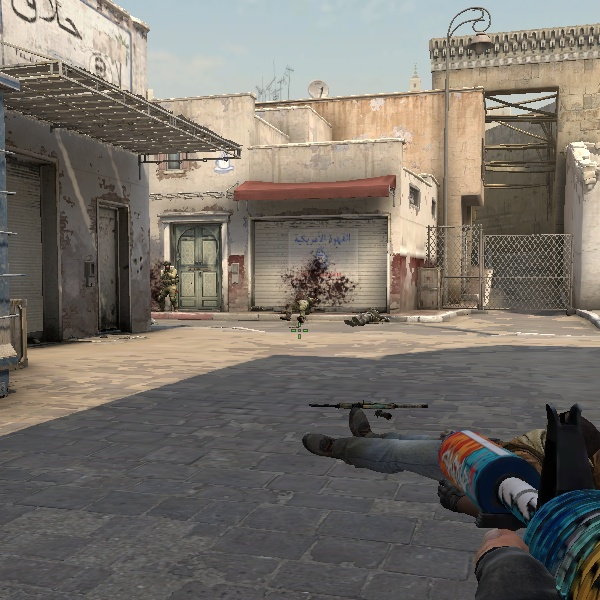ct_body: (151, 259, 180, 314)
